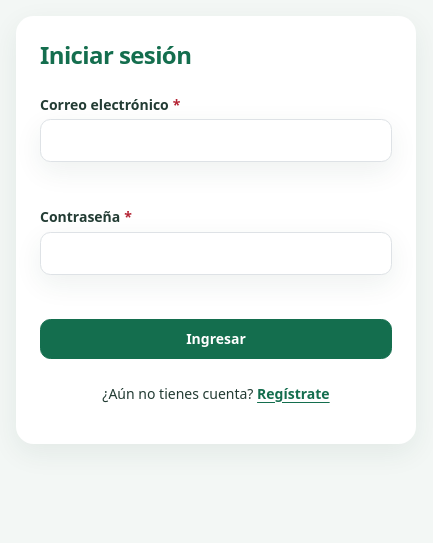
Test case: Inicio de sesión › muestra el mensaje del servidor cuando las credenciales son incorrectas
The width and height of the screenshot is (433, 543).
Type "ana@nutrivida.test" into the field labelled "Correo electrónico*" at point(216, 141), box [40,119,392,162]
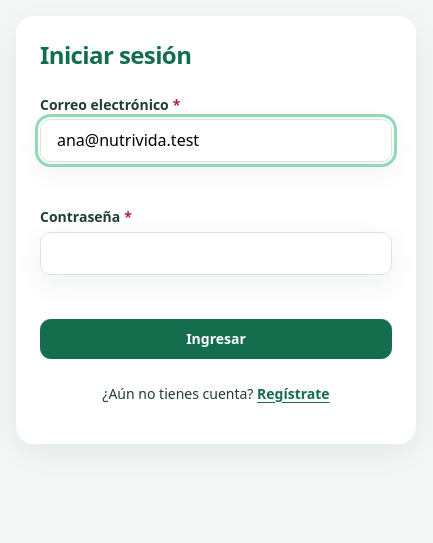
Type "Incorrecta1" into the password field labelled "Contraseña*" at point(216, 253), box [40,232,392,275]
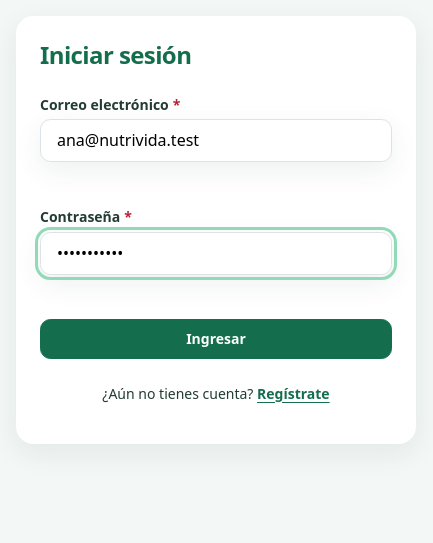
Click the button "Ingresar" at point(216, 339), box [40,319,392,359]
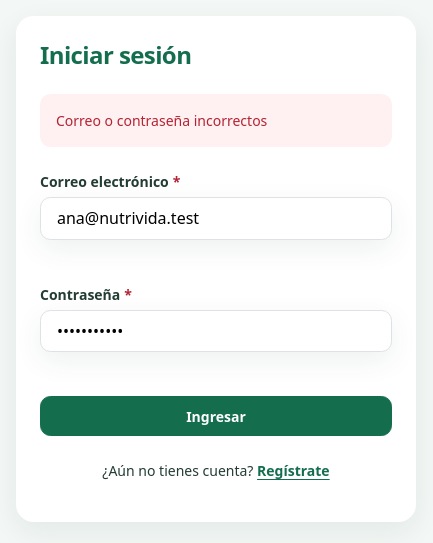
Now the text "Correo o contraseña incorrectos" is shown, box [40,94,392,148]
